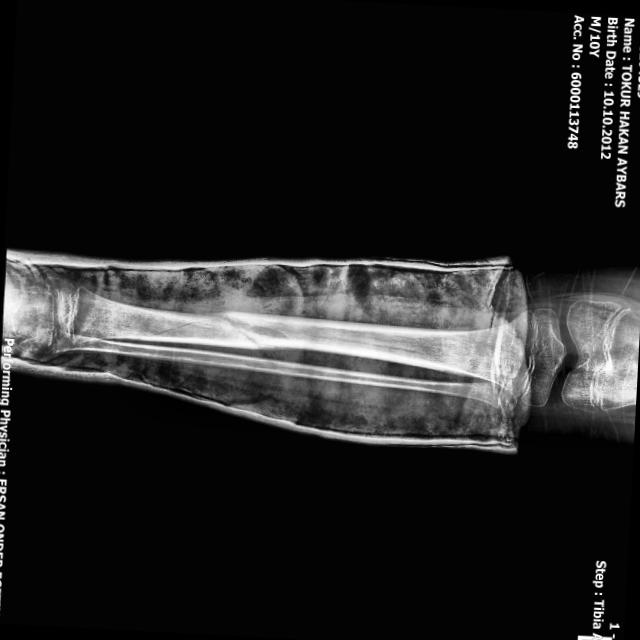Fracture: (202, 304, 278, 354)
